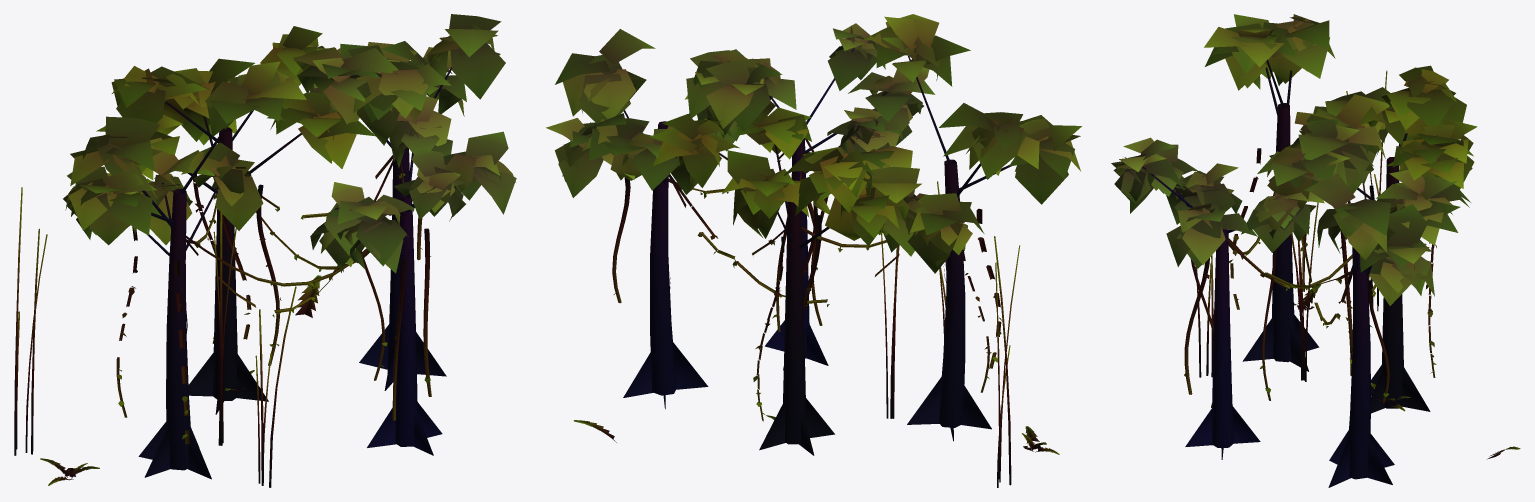
File: patch_understory_far.glb
The picture shows the model from 3 angles, left to right: view 1: azimuth 30°, elevation 25°; view 2: azimuth 150°, elevation 25°; view 3: azimuth 270°, elevation 25°; orthographic projection. The views are drawn at different scales.
Visible parts, largest first — view 1: patch_understory_far; view 2: patch_understory_far; view 3: patch_understory_far.
Boxes of the visible parts, x1=… form: patch_understory_far: x1=14, y1=14, x2=516, y2=487; patch_understory_far: x1=546, y1=14, x2=1081, y2=487; patch_understory_far: x1=1111, y1=14, x2=1520, y2=487.
Size of the model in its own units: 17.13 by 13.32 by 13.65.
1 material, 1 textured.
